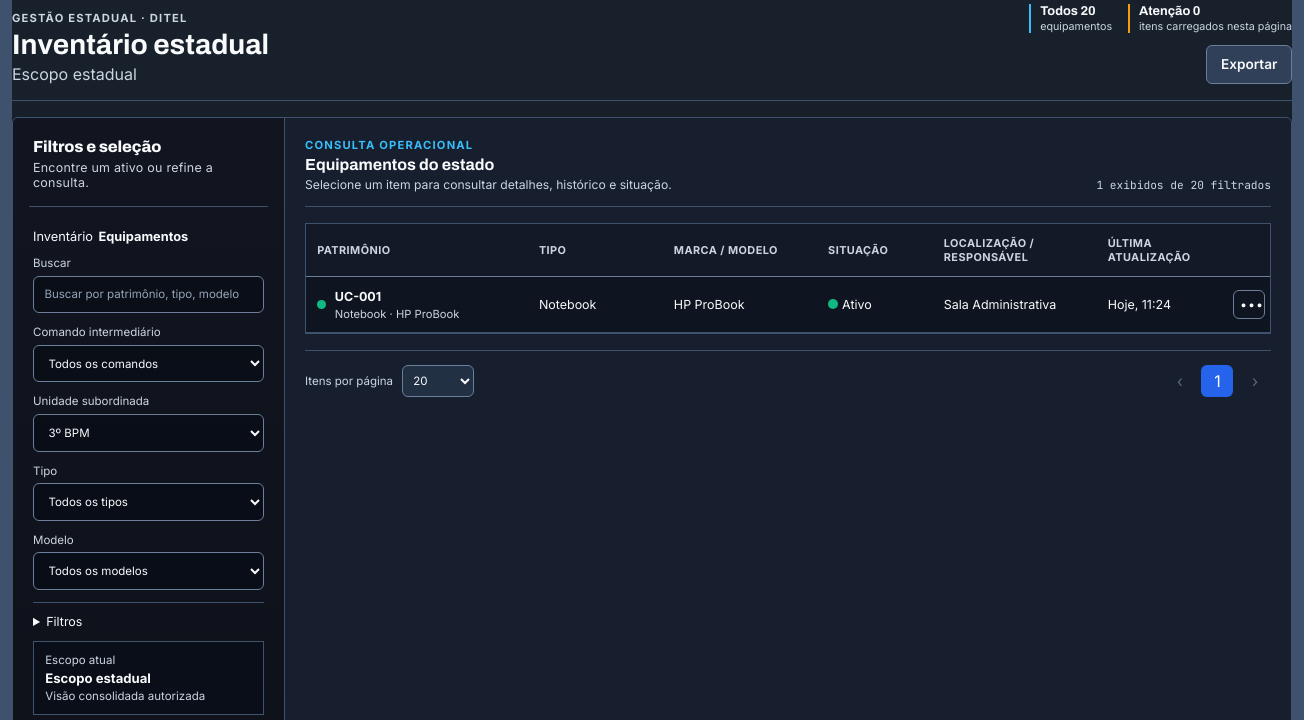
it: synchronizes command and dependent subordinate unit filters
Select "CPRM" in the dropdown labelled "Comando intermediário": (148, 364) left=33, top=345, right=264, bottom=382
(page scrolled)
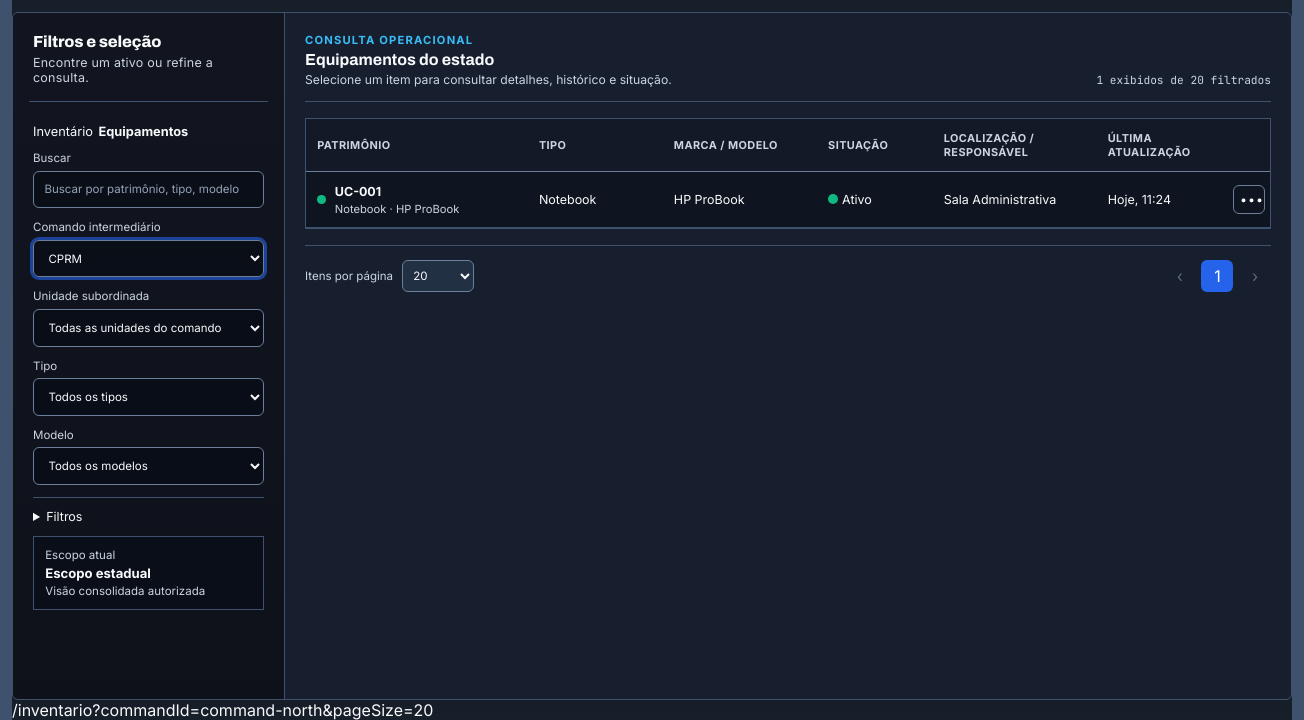
Check: the text with test id "location" does not show "unitId=unit-centro", box left=12, top=700, right=433, bottom=719
Check: the text with test id "location" shows "commandId=command-north", box left=92, top=700, right=433, bottom=719
